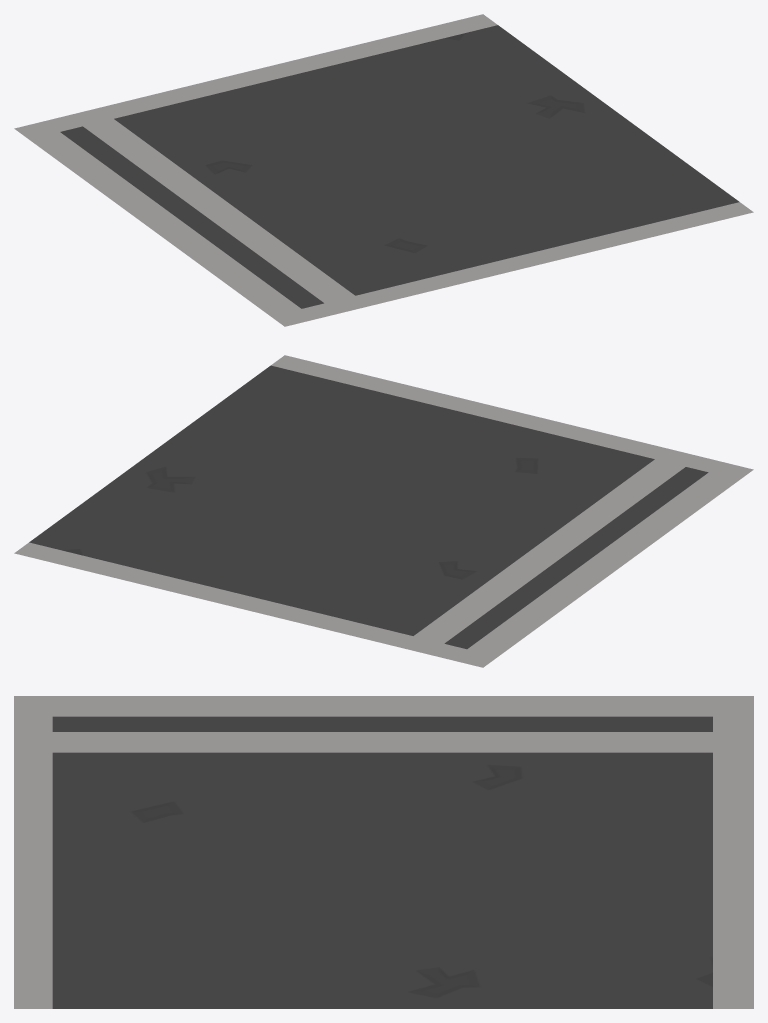
Rendered from SM_Gen_Env_Road_Intersection_02.fbx.
3 renders of one model, top to bottom at view 1: azimuth 30°, elevation 25°; view 2: azimuth 150°, elevation 25°; view 3: azimuth 270°, elevation 25°, orthographic. The views are drawn at different scales.
Parts seen in each view (by area): view 1: SM_Gen_Env_Road_Intersection_02; view 2: SM_Gen_Env_Road_Intersection_02; view 3: SM_Gen_Env_Road_Intersection_02.
Boxes of the visible parts, box(x1,y1,x2,y2) form: SM_Gen_Env_Road_Intersection_02: box(14, 14, 753, 326); SM_Gen_Env_Road_Intersection_02: box(14, 355, 753, 667); SM_Gen_Env_Road_Intersection_02: box(14, 696, 753, 1008).
Bounding box in the file's own units: 500 × 0 × 500.
